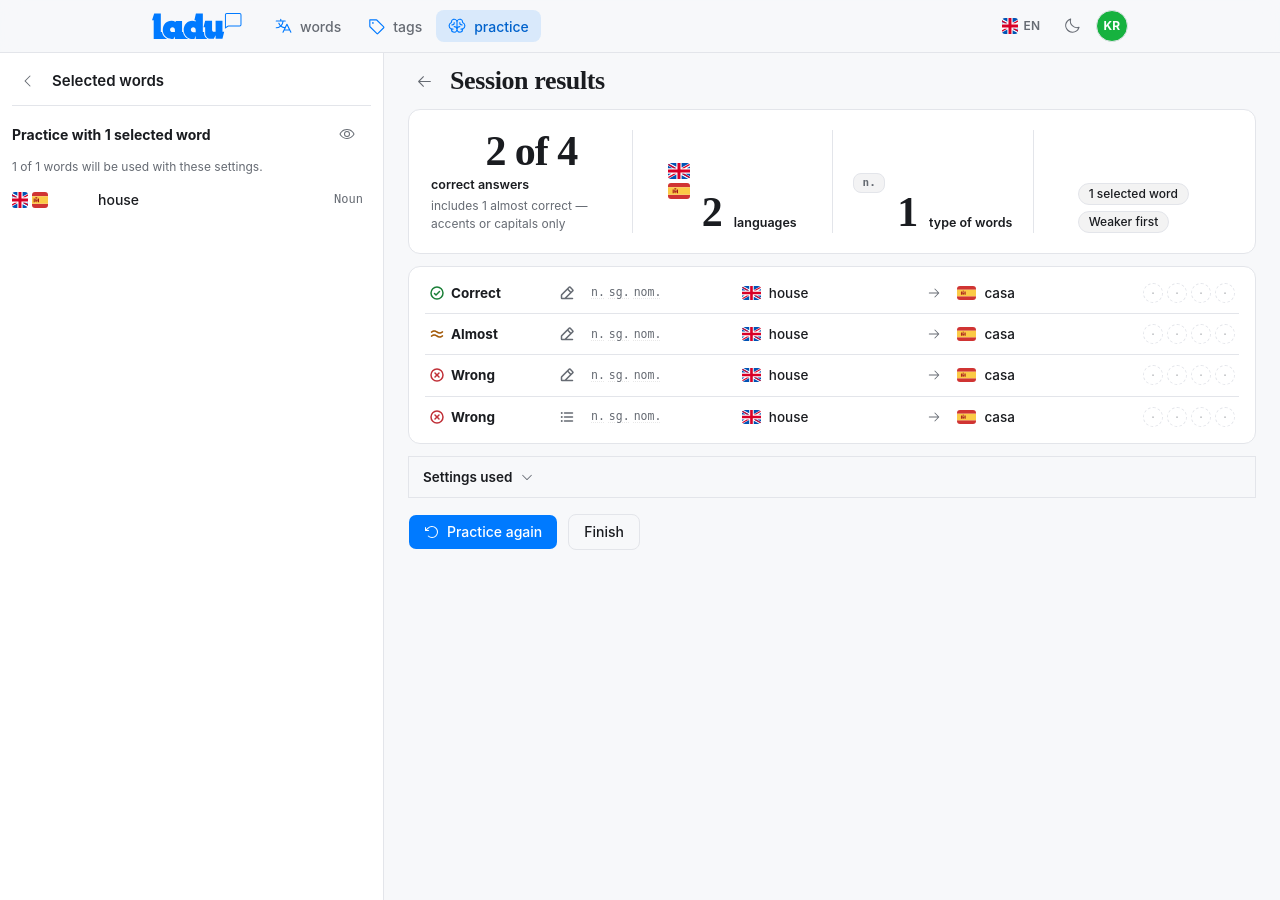
Test: ResultsView › "Practice again" makes new exercises with the same settings and words
Click the button "Practice again".
click(483, 532)  # box x1=408 y1=514 x2=558 y2=550
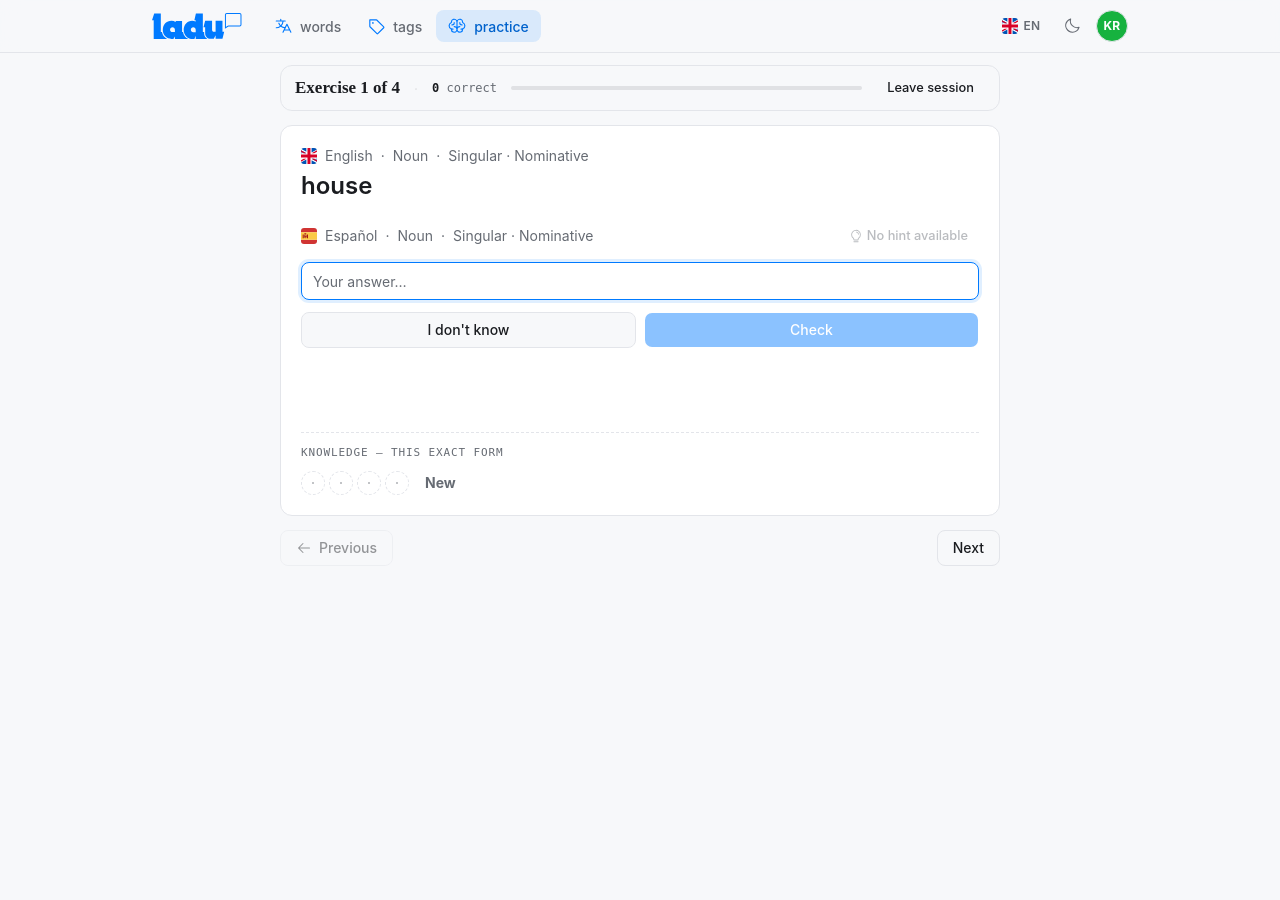
Expected: the heading "Exercise 1 of 4" is shown, x1=295 y1=75 x2=400 y2=101
